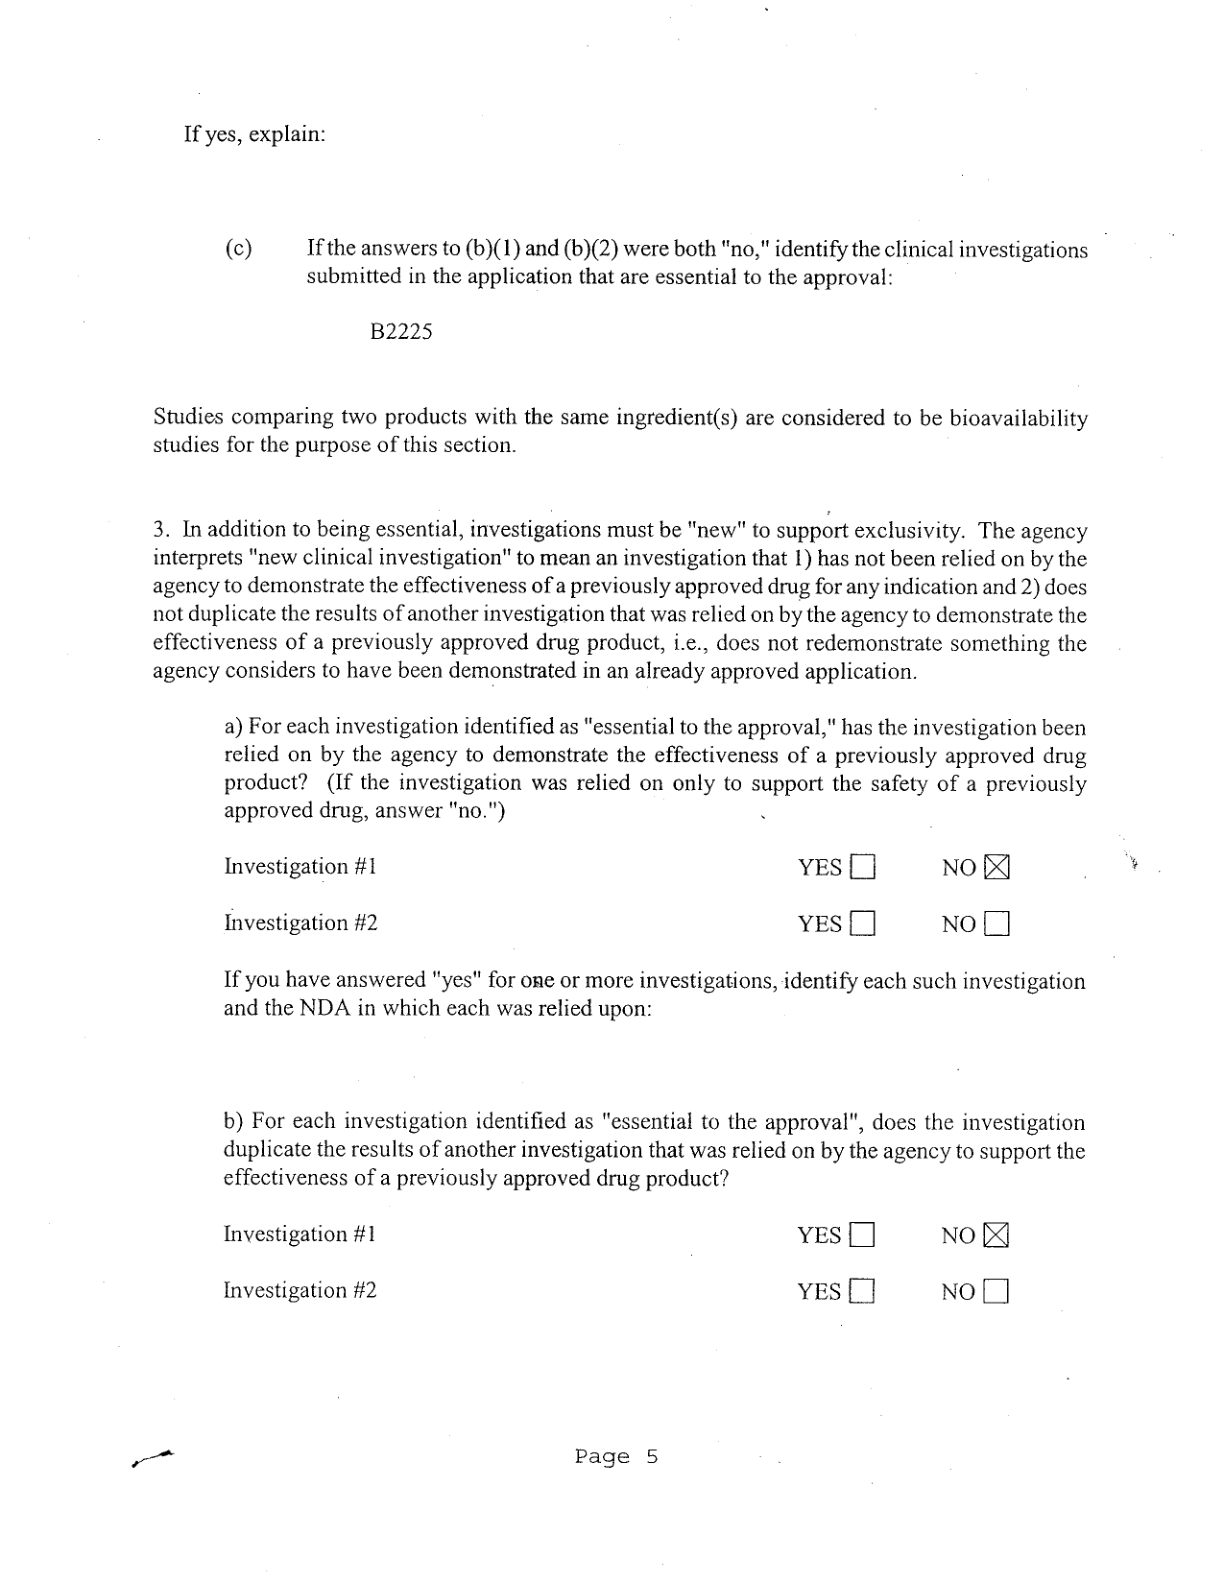nolines: (221, 847, 1019, 943), (220, 1219, 1011, 1307)
